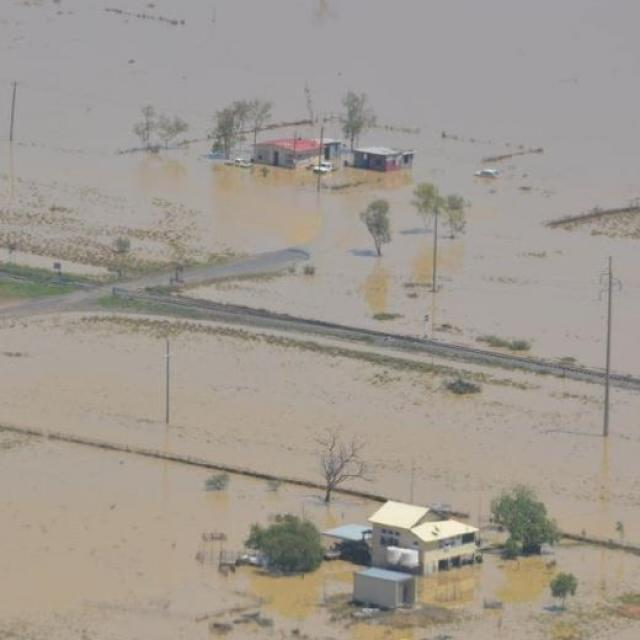flood: (0, 0, 640, 376), (0, 315, 640, 546), (0, 433, 640, 640)
house: (370, 497, 480, 576), (253, 132, 326, 170), (349, 144, 418, 174)
